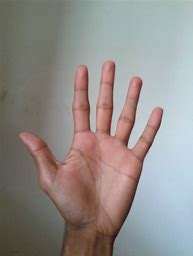palm: (18, 60, 164, 236)
